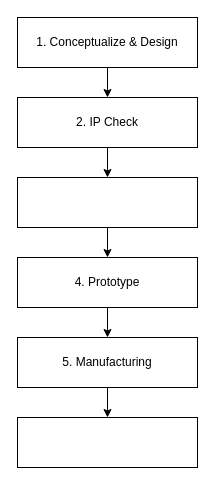
Some shapes in this 215 by 485 pixel diagram are drawn without their labels. The shapes that lost their labels are listed below. From the top down, each one's centre as x and y in pixels, then its label:
At pixel 107 202: "3. Technical Planning".
At pixel 107 442: "6. Business & Legal".
